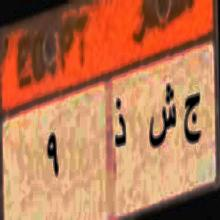9: (42, 128, 66, 183)
jeem: (182, 83, 203, 154)
sheen: (148, 80, 178, 163)
zaal: (112, 91, 131, 152)
